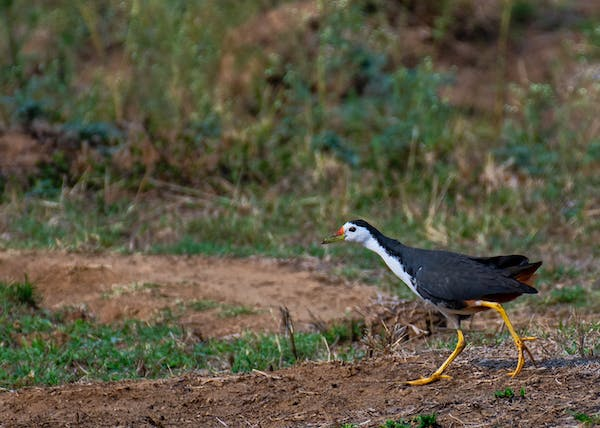Walking: (310, 211, 567, 408)
